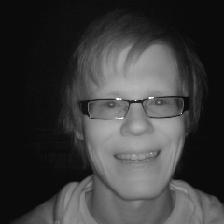happy: (57, 11, 207, 200)
